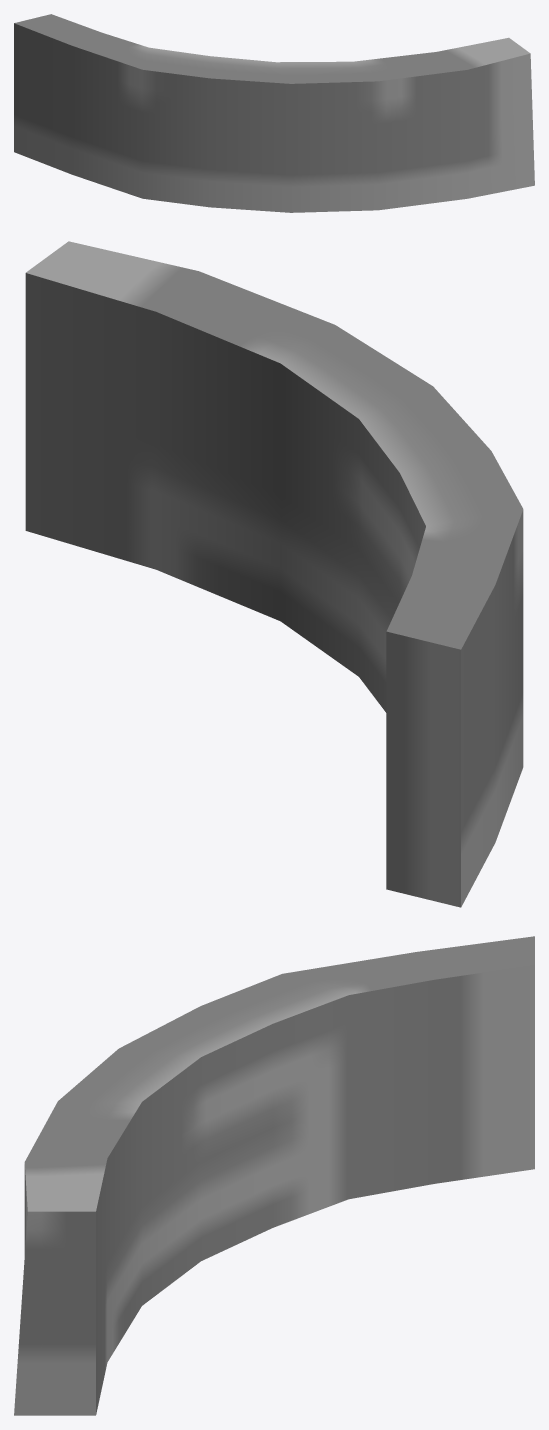
Rendered from wall_curve_02.fbx.
3 views of the same model, one above another, from view 1: azimuth 30°, elevation 25°; view 2: azimuth 150°, elevation 25°; view 3: azimuth 270°, elevation 25° (orthographic). The views are drawn at different scales.
Visible parts, largest first — view 1: wall_curve_02; view 2: wall_curve_02; view 3: wall_curve_02.
Boxes of the visible parts, <box> form: wall_curve_02: <box>14,14,534,212</box>; wall_curve_02: <box>25,241,523,907</box>; wall_curve_02: <box>14,936,534,1415</box>.
Size of the model in its own units: 4452 by 1539 by 3560.
